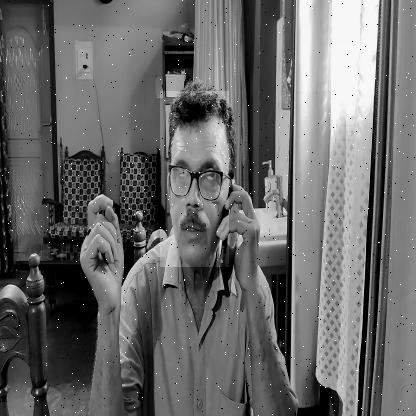Normal: (160, 91, 229, 267)
